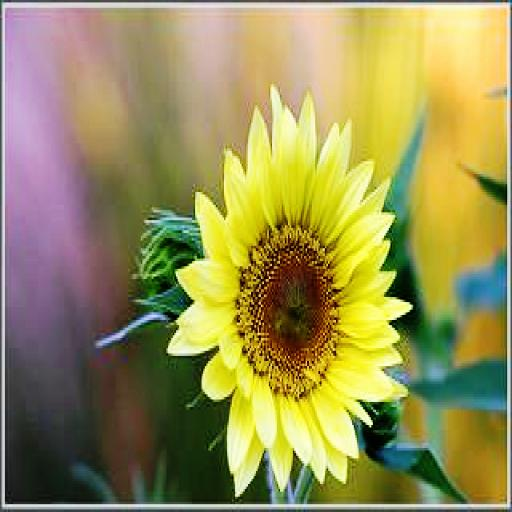sunflower: (178, 92, 410, 502)
